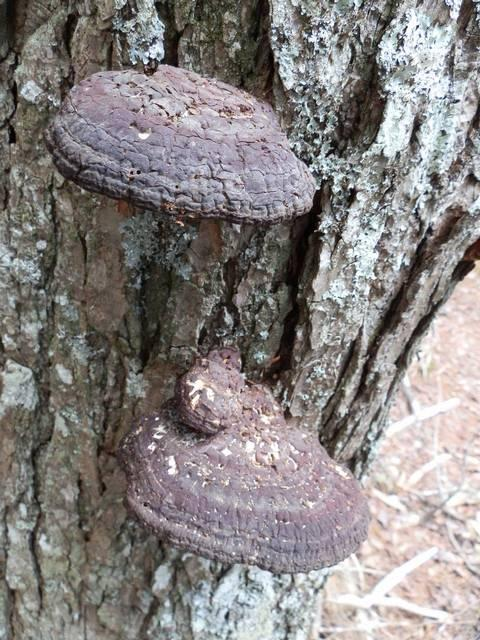poisonous_mushroom: (115, 345, 372, 574), (41, 62, 318, 226)
